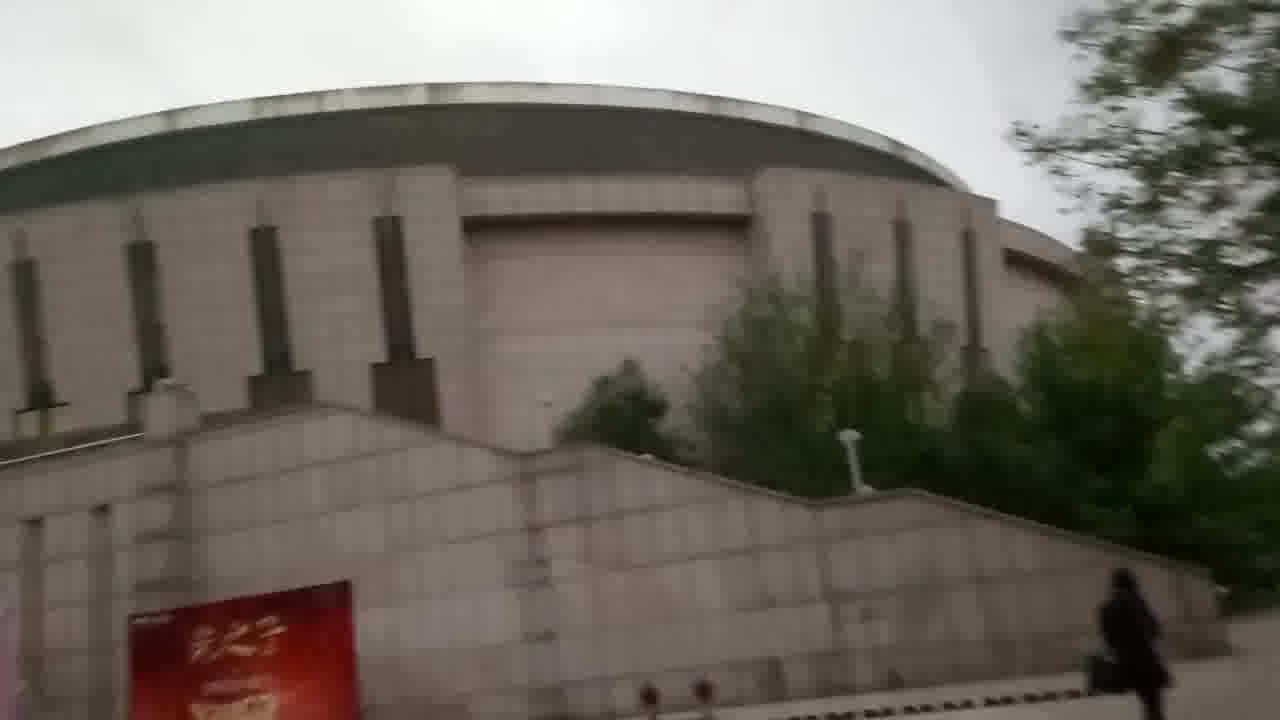zhongtiww: (5, 72, 1237, 720)
